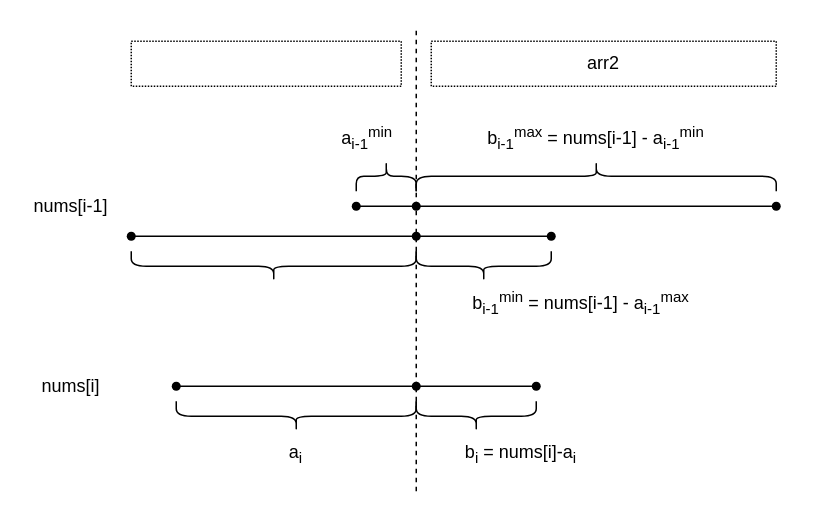
Some shapes in this 818 by 519 pixel diagram are drawn without their labels. The centre of each missing label's shape, as x and y in pixels:
"a i-1 max" goes at point 273,265.
"arr1" goes at point 265,63.
